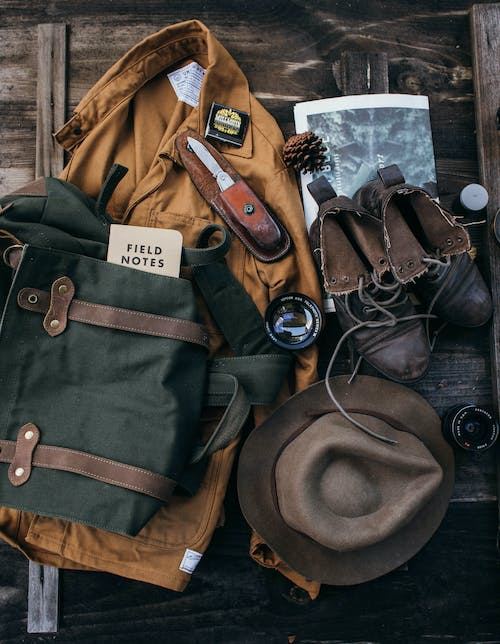knife: (185, 133, 236, 192)
